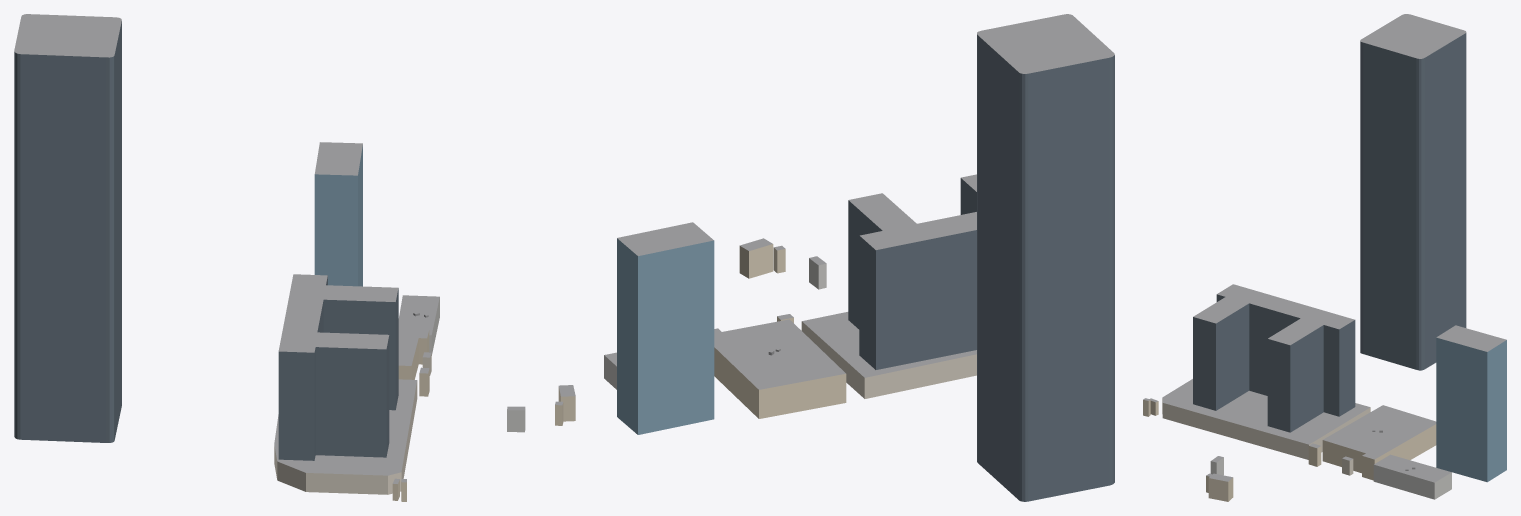
Rendered from building_1_5.glb.
3 views of the same model, side by side, from view 1: azimuth 30°, elevation 25°; view 2: azimuth 150°, elevation 25°; view 3: azimuth 270°, elevation 25° (orthographic). The views are drawn at different scales.
Visible parts, largest first — view 1: glass_dark, roof, glass_blue, concrete_warm, sandstone, concrete_light; view 2: glass_dark, roof, glass_blue, sandstone, concrete_warm, concrete_light; view 3: glass_dark, roof, glass_blue, sandstone, concrete_warm, concrete_light.
Boxes of the visible parts, x1,y1,x2,y2 form: glass_dark: [14, 21, 398, 460]; roof: [14, 14, 575, 483]; glass_blue: [314, 145, 362, 286]; concrete_warm: [274, 353, 431, 494]; sandstone: [392, 330, 575, 501]; concrete_light: [429, 297, 525, 432]; glass_dark: [848, 34, 1114, 501]; roof: [604, 14, 1114, 389]; glass_blue: [617, 238, 714, 434]; sandstone: [714, 244, 846, 418]; concrete_warm: [801, 321, 976, 398]; concrete_light: [604, 258, 826, 389]; glass_dark: [1193, 33, 1466, 432]; roof: [1143, 14, 1506, 482]; glass_blue: [1436, 337, 1506, 482]; sandstone: [1143, 399, 1436, 501]; concrete_warm: [1162, 399, 1370, 475]; concrete_light: [1210, 457, 1451, 499].
Size of the model in its own units: 276 by 227 by 241.
